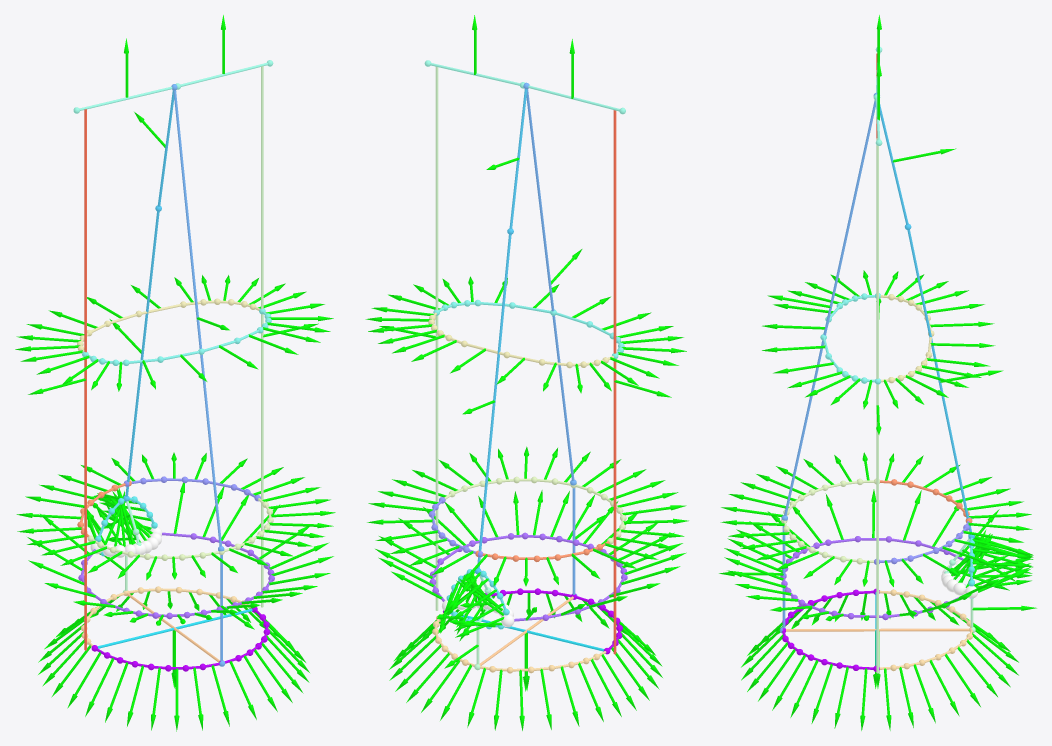
The model's file is t2f_toothpaste.gltf.
3 views of the same model, side by side, from view 1: azimuth 30°, elevation 25°; view 2: azimuth 150°, elevation 25°; view 3: azimuth 270°, elevation 25° (orthographic). The views are drawn at different scales.
Size of the model in its own units: 0.5055 by 1.1 by 0.486.
